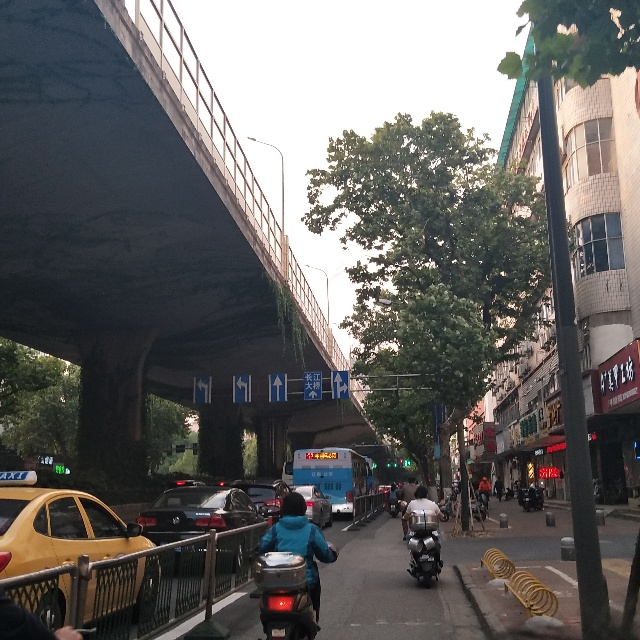left: (193, 376, 211, 404), (233, 375, 251, 403)
straight: (268, 373, 287, 403)
